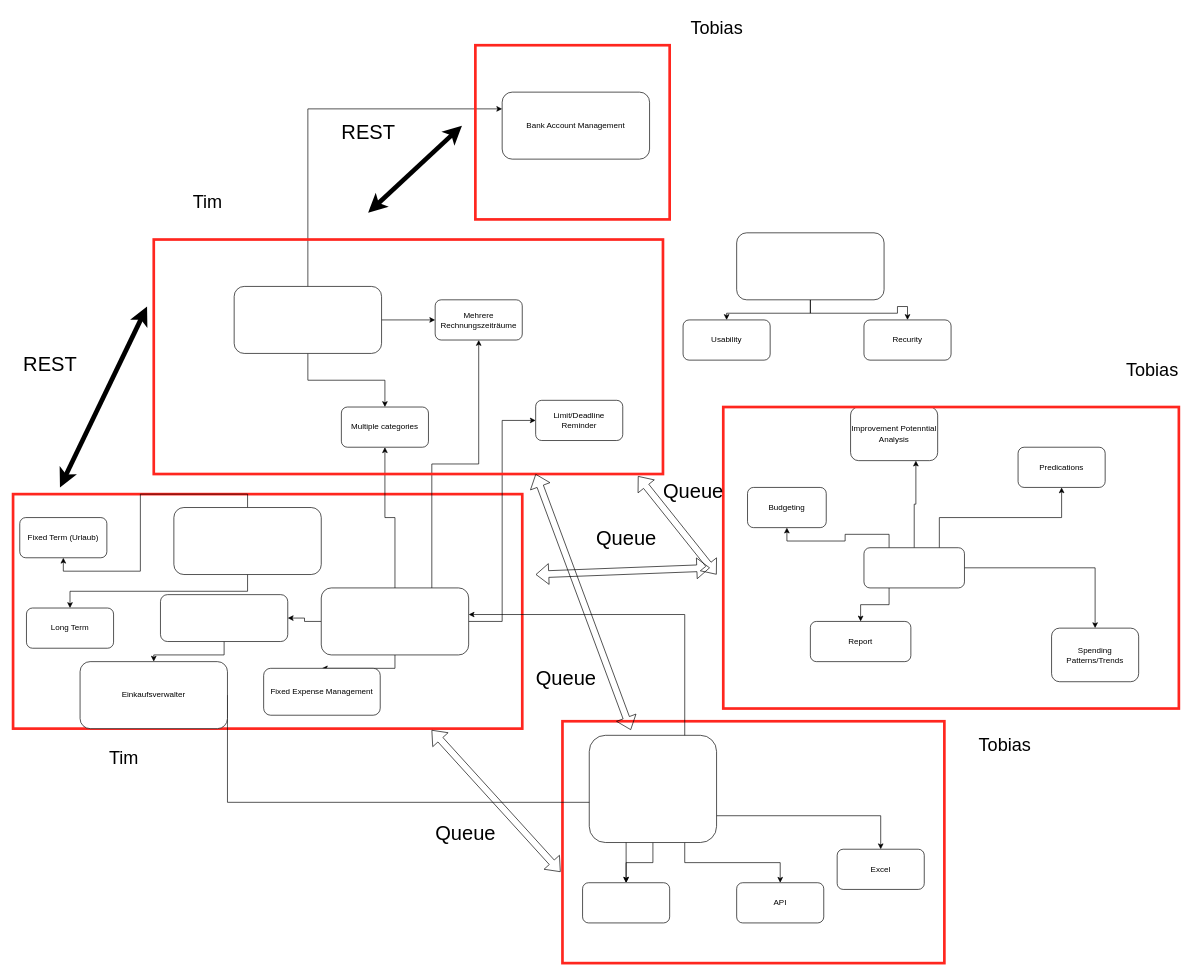
The diagram is 1197 pixels wide and 976 high, and some of its shapes have lost their labels. The centre of each missing label's shape, as x and y in pixels:
"Camera" belongs at [626,902].
"Data (Input) Manager" belongs at [653,789].
"Data Analyst" belongs at [913,567].
"Expense Management" belongs at [395,621].
"Income Source Management" belongs at [307,319].
"NFRs" belongs at [810,266].
"Saving Goals" belongs at [247,541].
"Variable Expense Management" belongs at [224,618].
